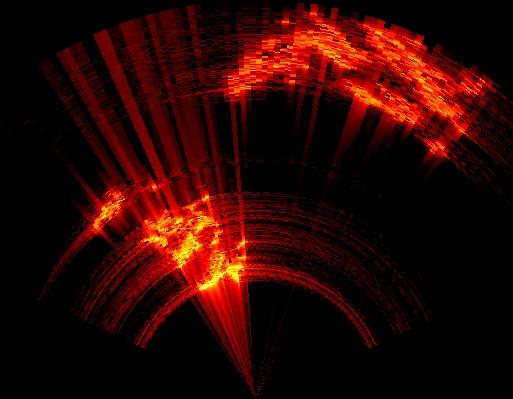shipwreck: (349, 28, 489, 136), (225, 11, 372, 98), (141, 200, 218, 269), (197, 230, 244, 290), (88, 191, 127, 234), (428, 138, 447, 153), (143, 182, 161, 189)
